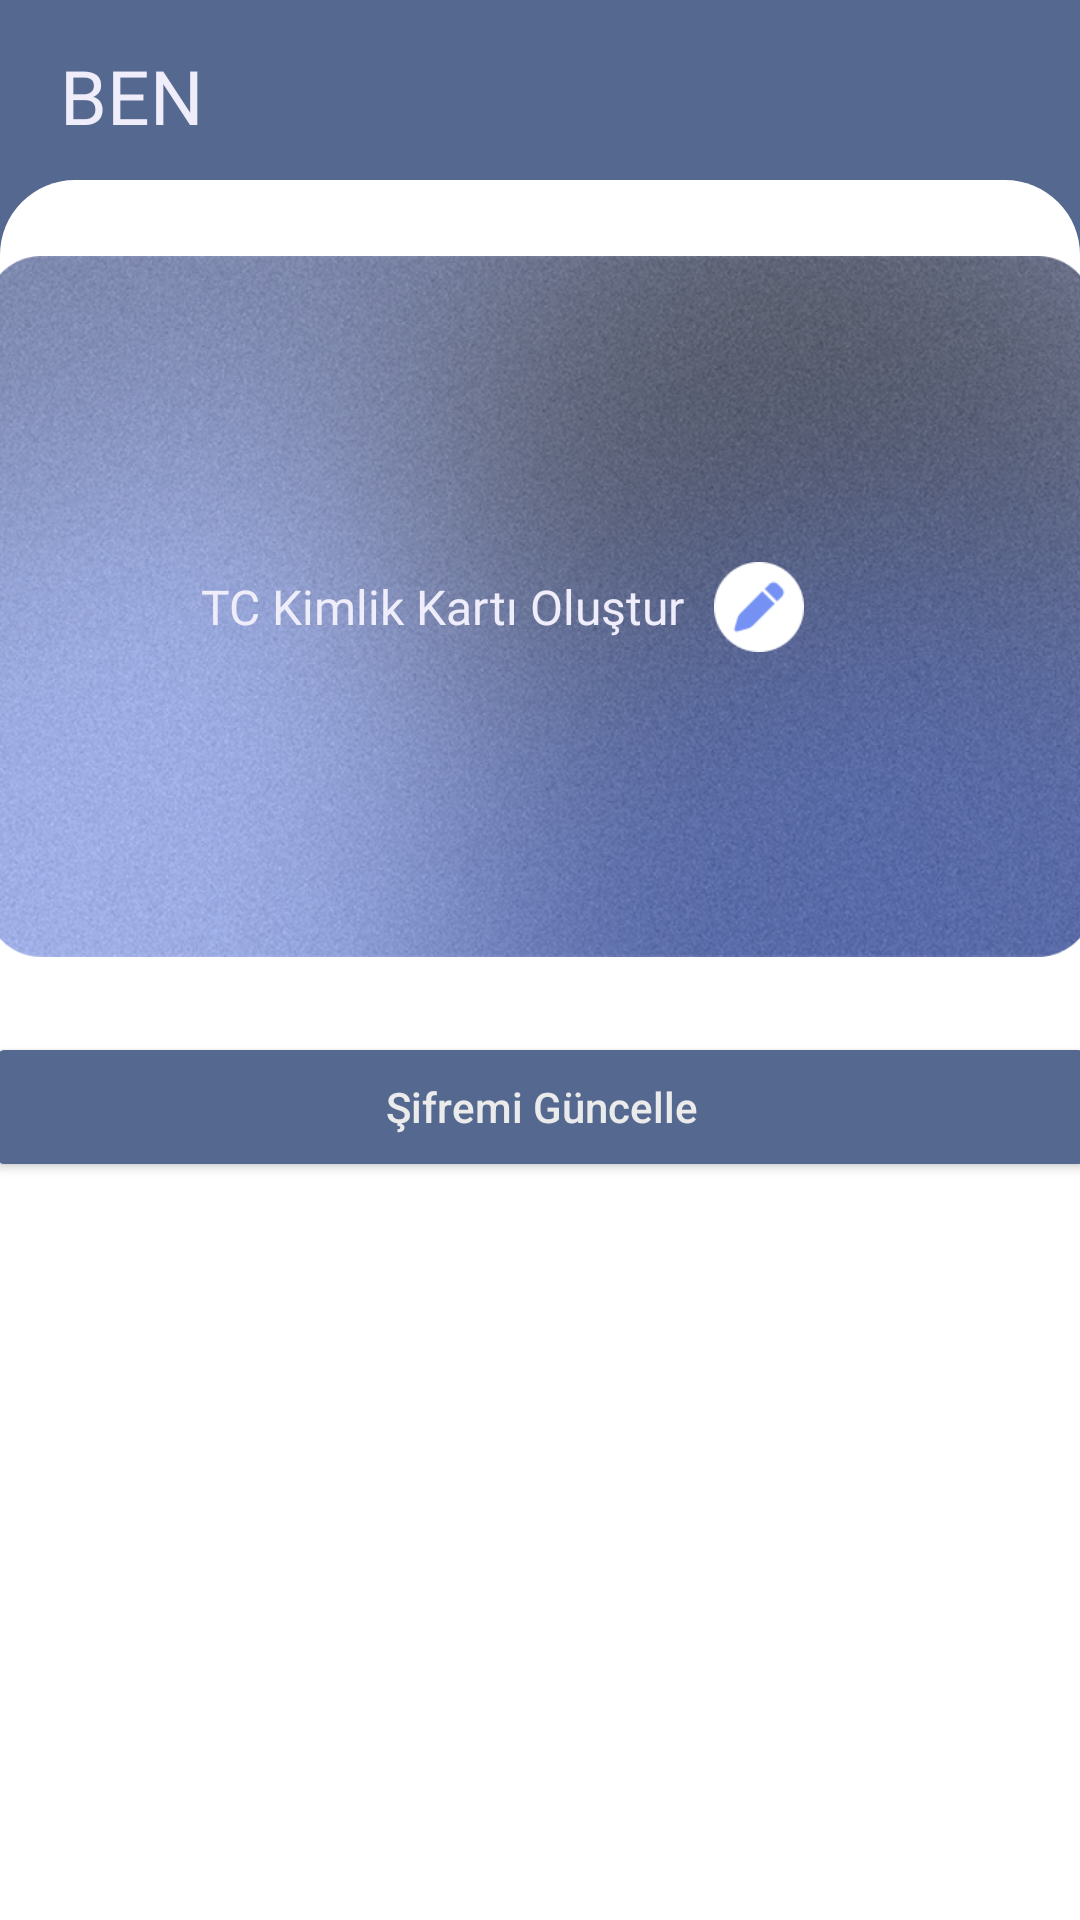

Screen size 1080 × 1920. Icon name, then its box in pixels as (x1=x1, y1=y1, x2=x2, y2=y2):
pen: (x1=714, y1=562, x2=804, y2=652)
